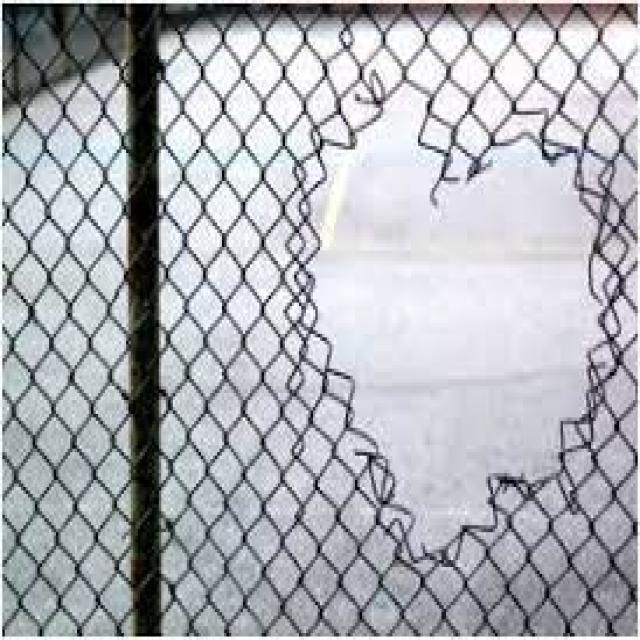fence line: (284, 78, 620, 569)
